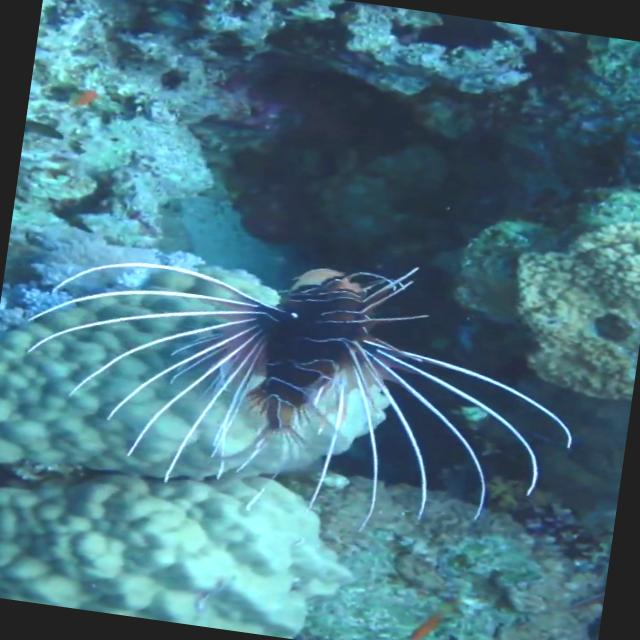Aslan Baligi: (0, 211, 595, 559)
